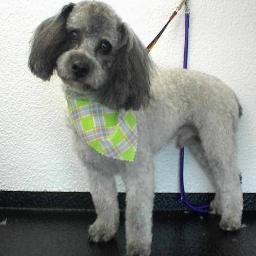dog: (31, 4, 244, 234)
